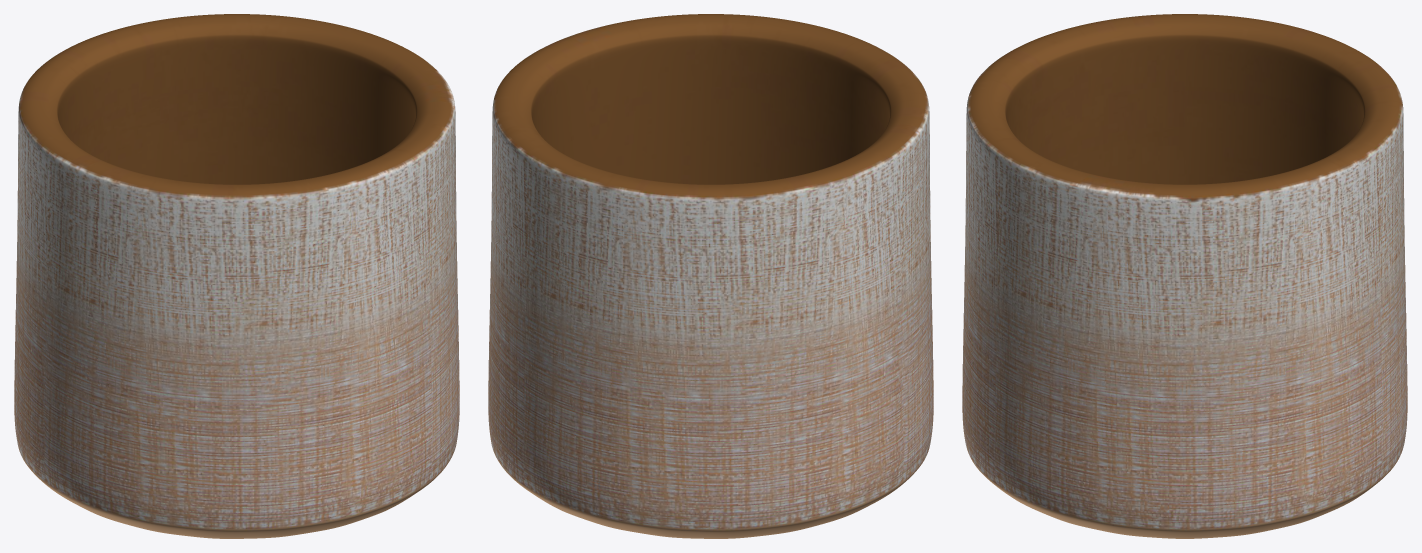
The model's file is planter_B075HXHKZ4.glb.
3 views of the same model, side by side, from view 1: azimuth 30°, elevation 25°; view 2: azimuth 150°, elevation 25°; view 3: azimuth 270°, elevation 25° (orthographic).
Parts seen in each view (by area): view 1: RootNode; view 2: RootNode; view 3: RootNode.
Boxes of the visible parts, left/top/right/bottom form: RootNode: left=14, top=14, right=459, bottom=538; RootNode: left=488, top=14, right=933, bottom=538; RootNode: left=962, top=14, right=1407, bottom=538.
Size of the model in its own units: 0.1774 by 0.157 by 0.1774.
1 material, 1 textured.
